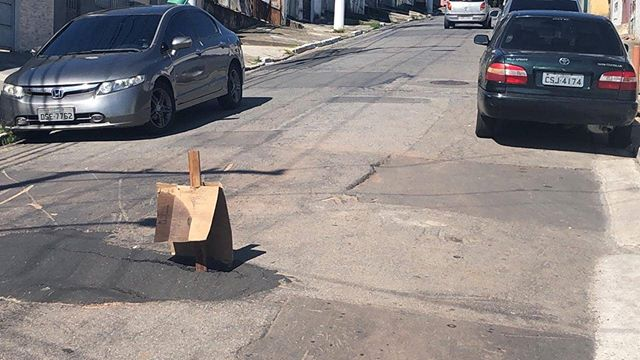car: (1, 1, 272, 135), (450, 6, 640, 152)
street: (5, 18, 622, 355)
